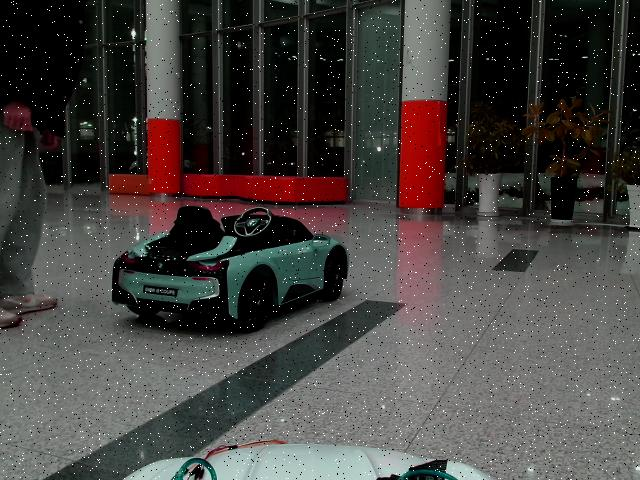car: (112, 206, 350, 333)
